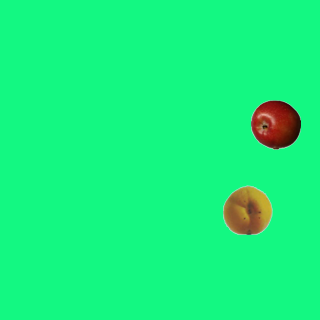Apple Braeburn: (250, 99, 300, 149)
Peach 2: (222, 184, 272, 234)
